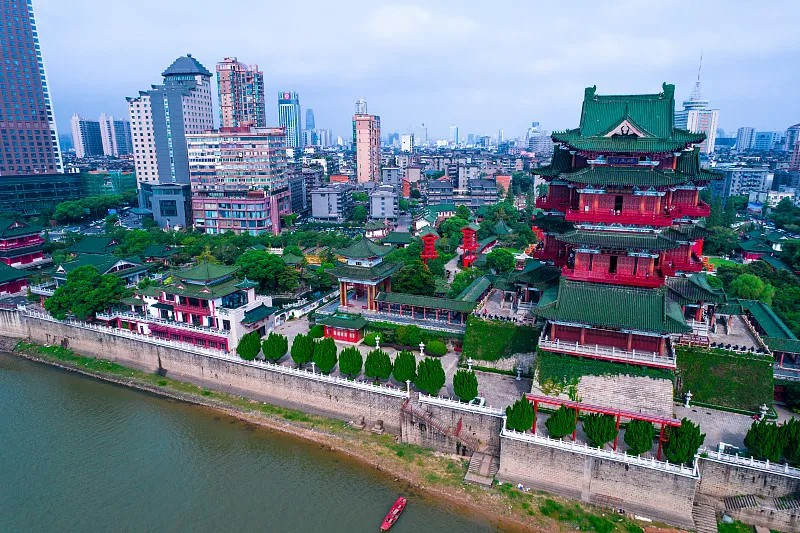Teng: (492, 81, 722, 358)
